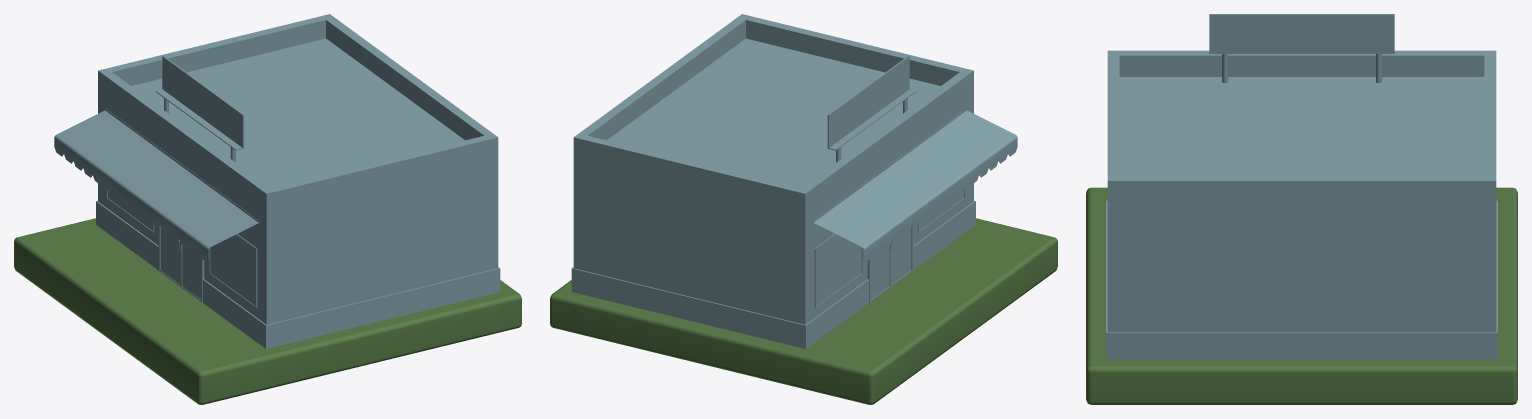
File: Producer_tile.fbx
3 views of the same model, side by side, from view 1: azimuth 30°, elevation 25°; view 2: azimuth 150°, elevation 25°; view 3: azimuth 270°, elevation 25° (orthographic). The views are drawn at different scales.
Visible parts, largest first — view 1: Producer_tile; view 2: Producer_tile; view 3: Producer_tile.
Boxes of the visible parts, box(x1,y1,x2,y2) form: Producer_tile: box(14, 14, 521, 404); Producer_tile: box(550, 14, 1057, 404); Producer_tile: box(1086, 14, 1517, 404).
Size of the model in its own units: 100 by 67.75 by 100.
